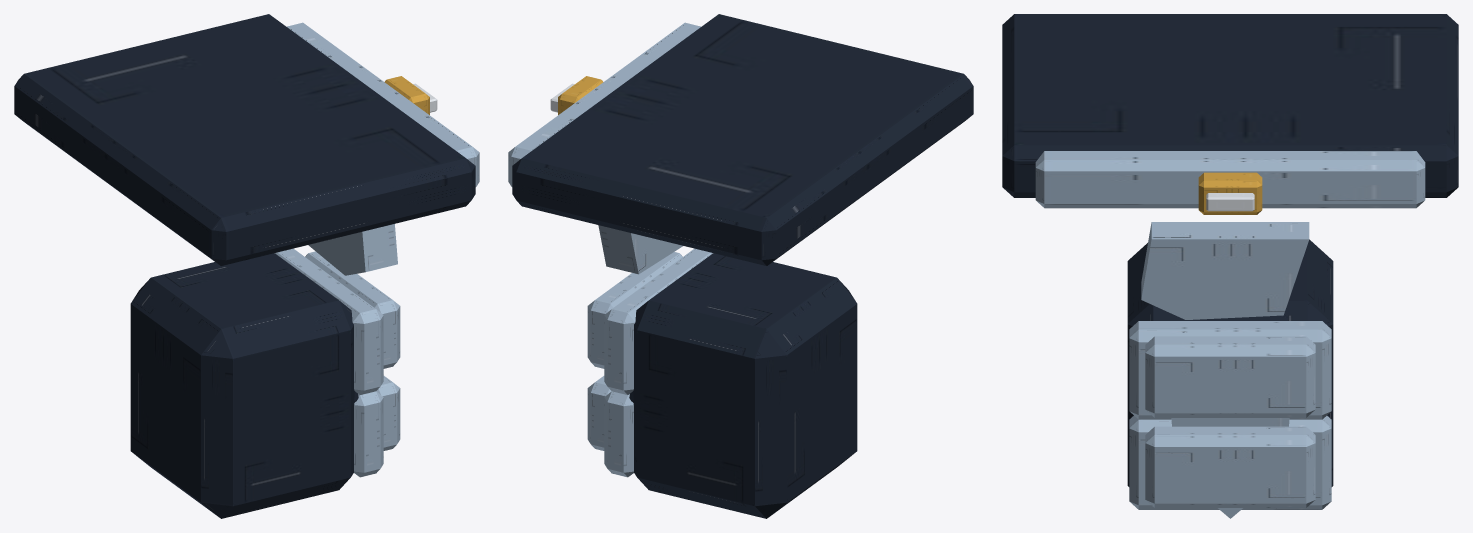
The model's file is greaves.glb.
The picture shows the model from 3 angles, left to right: view 1: azimuth 30°, elevation 25°; view 2: azimuth 150°, elevation 25°; view 3: azimuth 270°, elevation 25°; orthographic projection. The views are drawn at different scales.
Visible parts, largest first — view 1: hips, leg_L, shin_L; view 2: hips, leg_L, shin_L; view 3: hips, leg_L, shin_L.
Part boxes in pixels (bbox=[...]): hips: bbox=[14, 14, 479, 265]; leg_L: bbox=[130, 248, 400, 518]; shin_L: bbox=[308, 224, 397, 402]; hips: bbox=[508, 14, 973, 265]; leg_L: bbox=[587, 248, 857, 518]; shin_L: bbox=[598, 225, 682, 402]; hips: bbox=[1002, 14, 1458, 214]; leg_L: bbox=[1127, 239, 1333, 509]; shin_L: bbox=[1141, 222, 1309, 518].
Size of the model in its own units: 0.232 by 0.256 by 0.266.
Materials: 5 (5 with a texture image).
